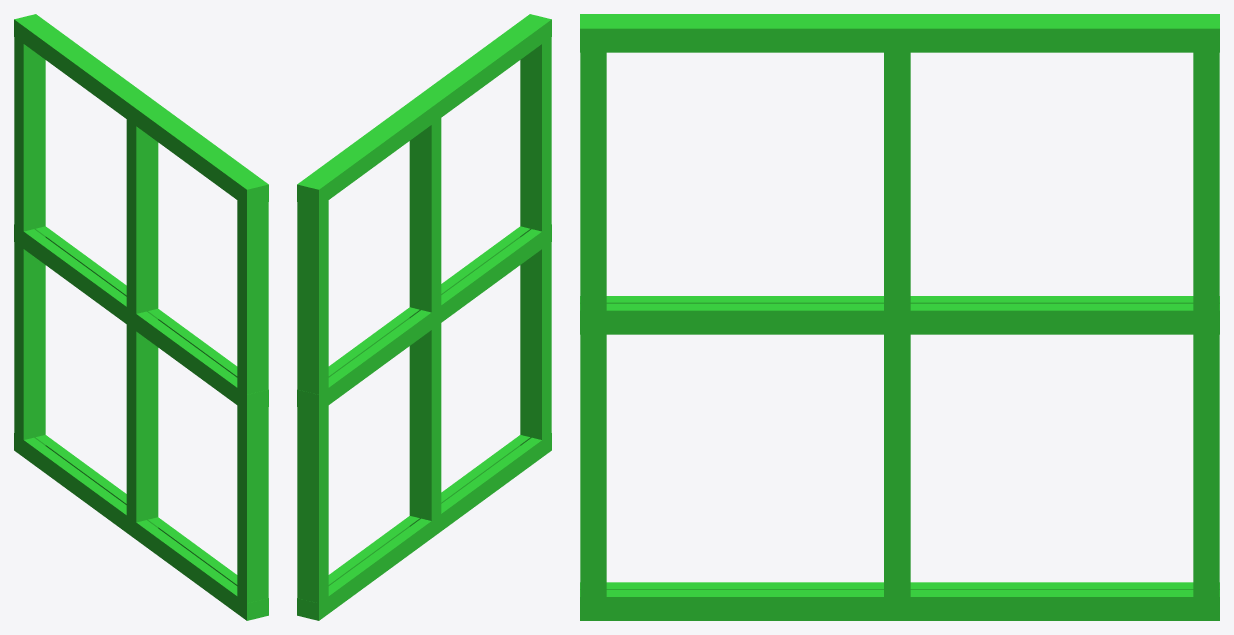
The model's file is ddddddss.fbx.
3 renders of one model, left to right at view 1: azimuth 30°, elevation 25°; view 2: azimuth 150°, elevation 25°; view 3: azimuth 270°, elevation 25°, orthographic. The views are drawn at different scales.
Visible parts, largest first — view 1: Cube.001; view 2: Cube.001; view 3: Cube.001.
Part boxes in pixels (box(x1,y1,x2,y2)): Cube.001: box(14, 14, 268, 620); Cube.001: box(297, 14, 551, 620); Cube.001: box(580, 14, 1219, 620).
Size of the model in its own units: 10.84 by 204 by 200.
